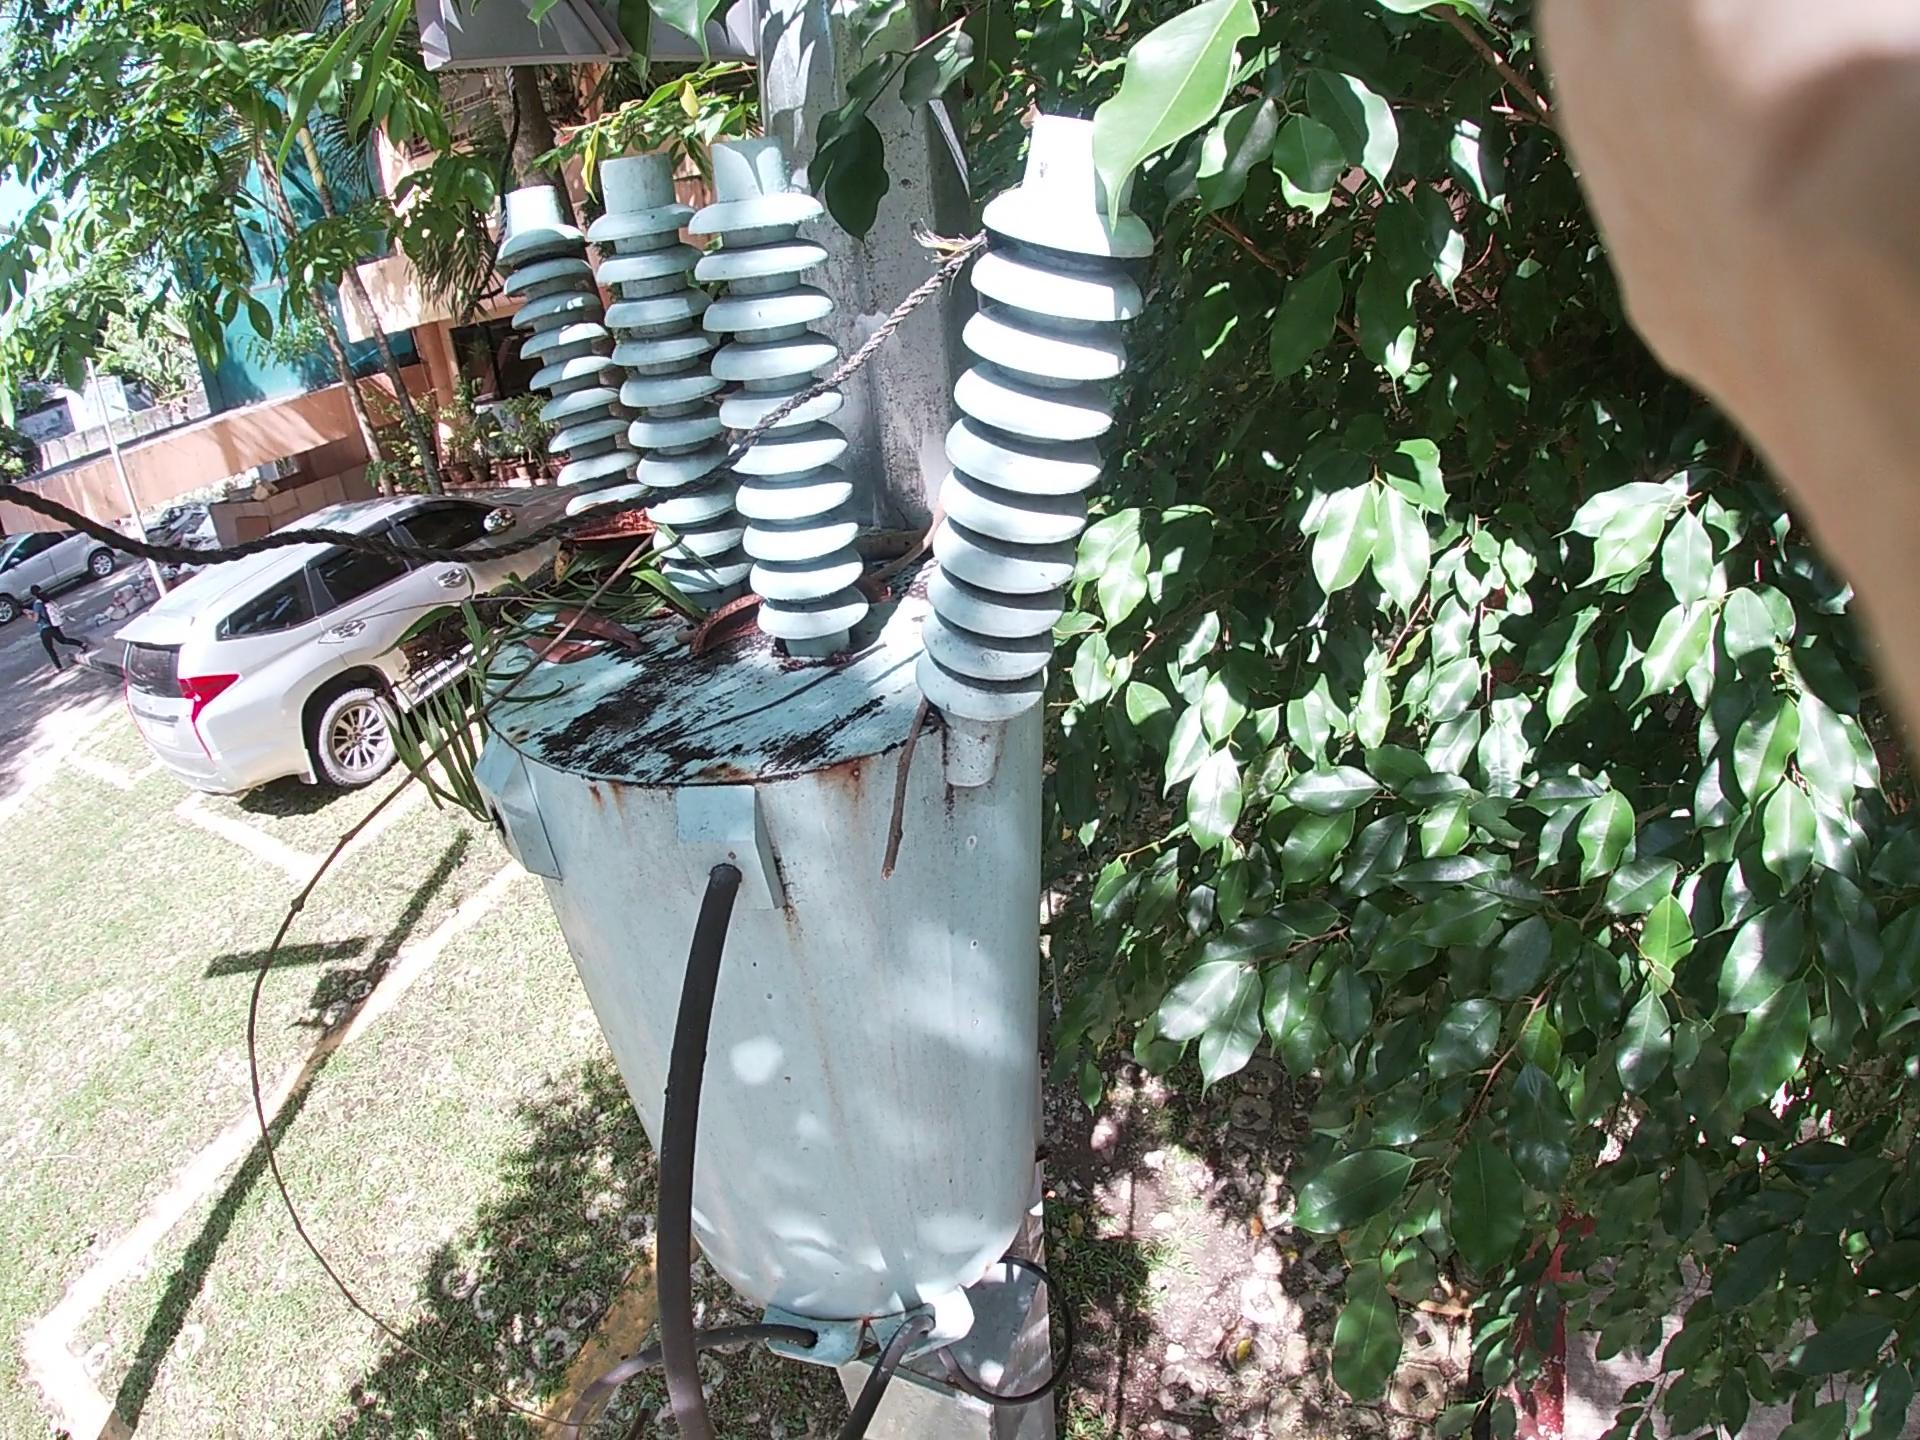branch with leaves: (343, 436, 877, 852)
leaf: (523, 584, 627, 694)
mahogany fruit: (639, 531, 810, 703), (537, 455, 665, 555)
tree branch: (692, 401, 1014, 681), (890, 537, 1014, 891)
